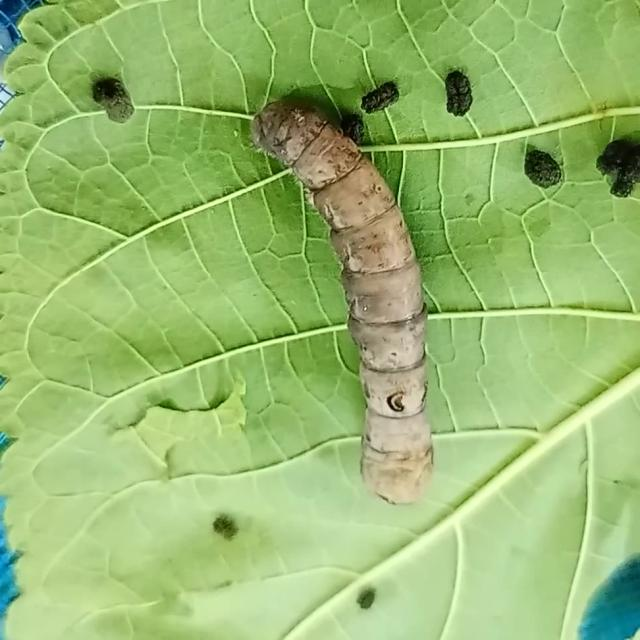Grasserie: (227, 74, 478, 529)
